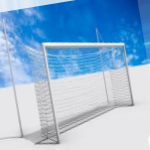goals: (24, 38, 138, 146)
